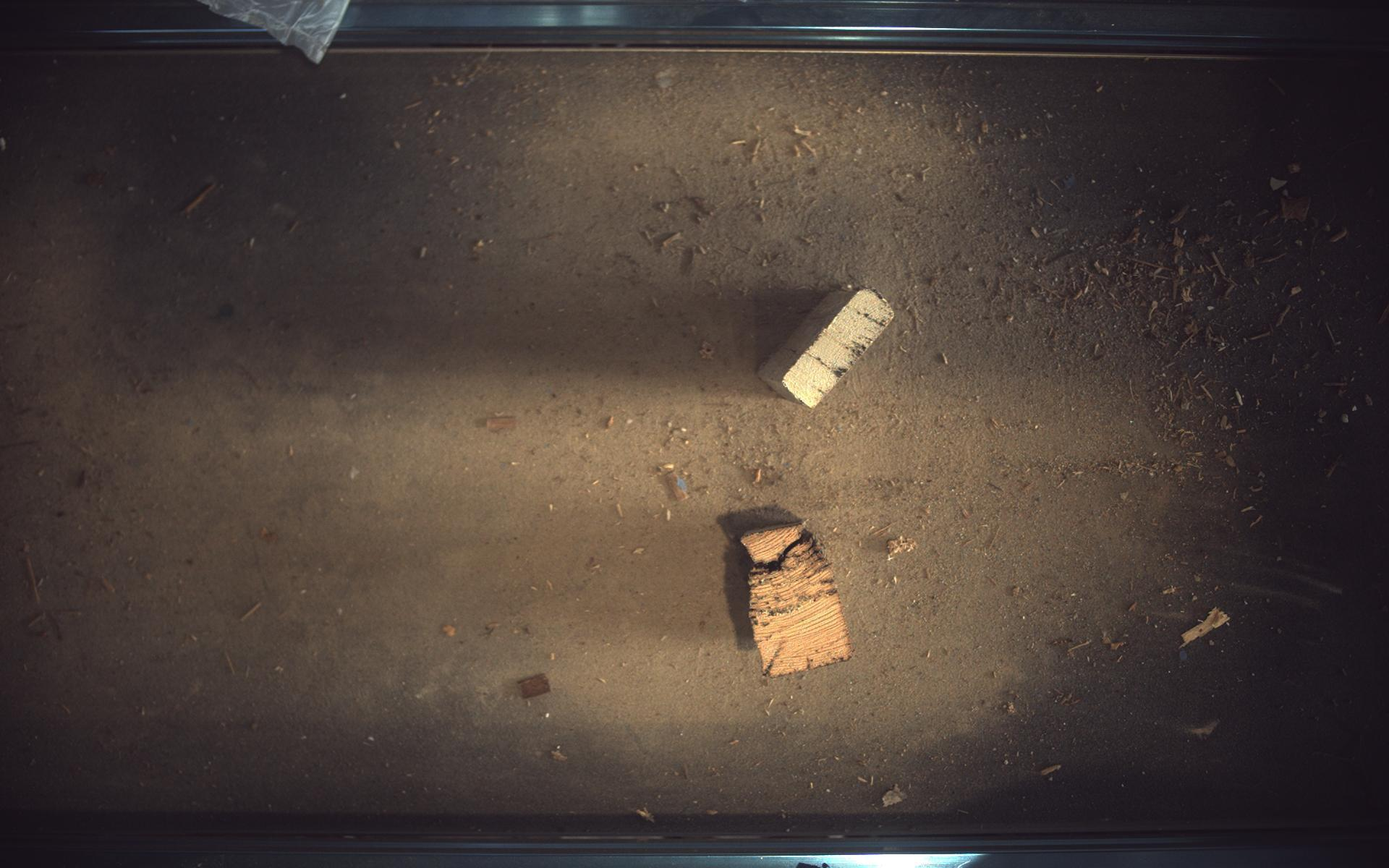wood: (742, 524, 853, 677), (760, 288, 895, 408)
